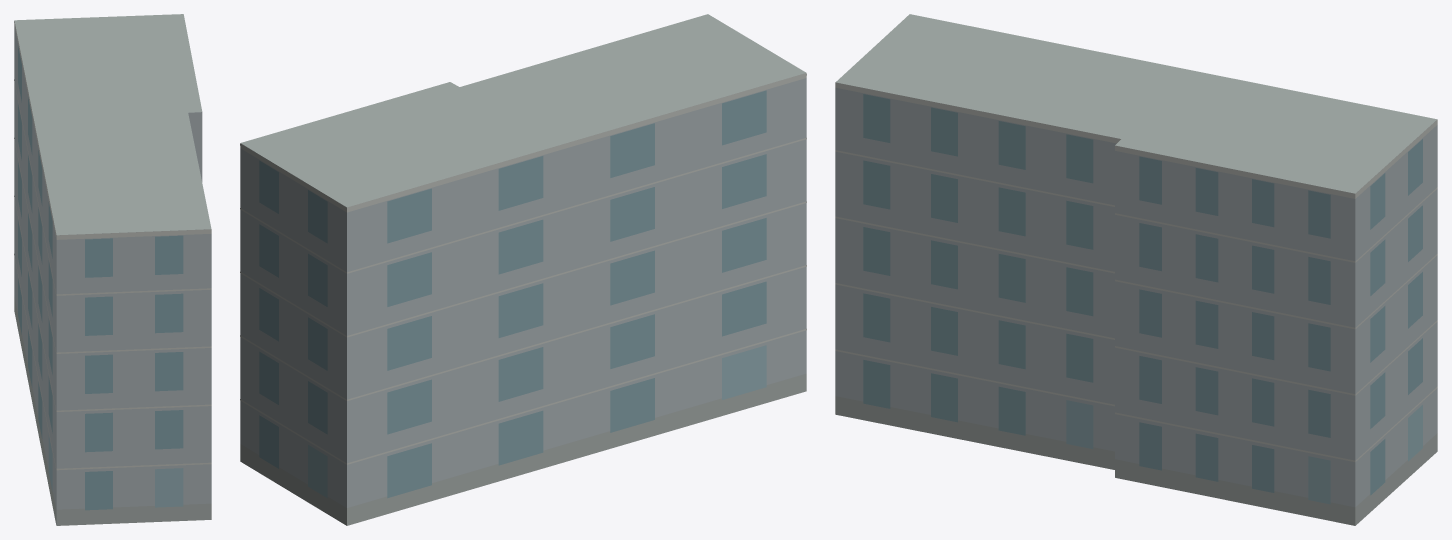
Rendered from survey-upis-32929444.glb.
3 views of the same model, side by side, from view 1: azimuth 30°, elevation 25°; view 2: azimuth 150°, elevation 25°; view 3: azimuth 270°, elevation 25° (orthographic). The views are drawn at different scales.
Visible parts, largest first — view 1: survey-upis-32929444.tmp; view 2: survey-upis-32929444.tmp; view 3: survey-upis-32929444.tmp.
Boxes of the visible parts, box(x1,y1,x2,y2) form: survey-upis-32929444.tmp: box(14, 14, 211, 525); survey-upis-32929444.tmp: box(240, 14, 806, 525); survey-upis-32929444.tmp: box(835, 14, 1437, 525).
Bounding box in the file's own units: 17.71 × 15.25 × 25.07.
